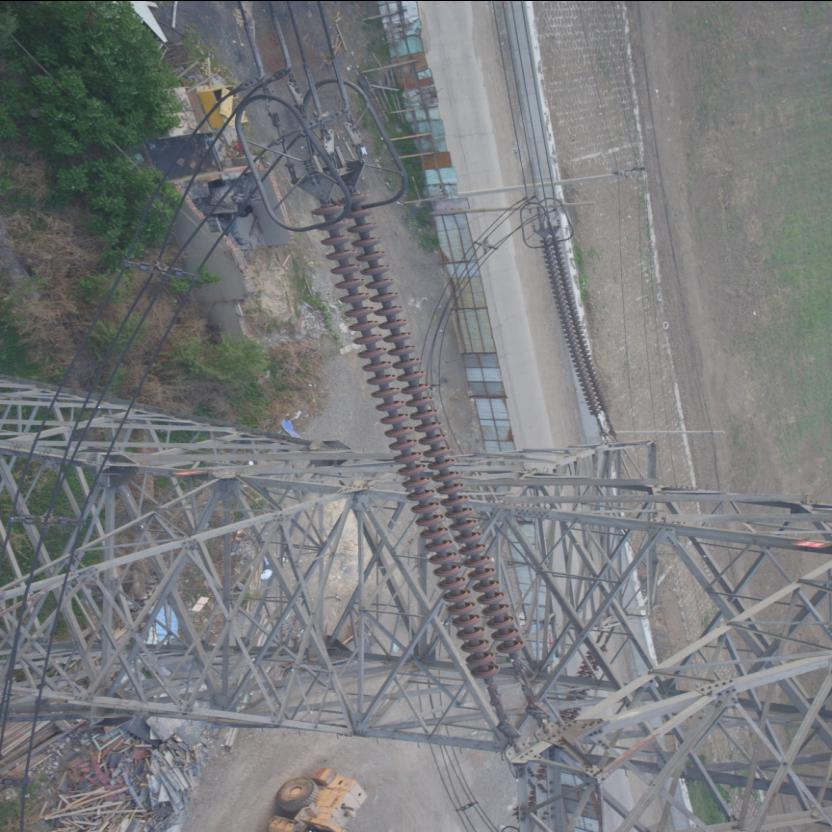insulator: (310, 190, 532, 690), (540, 230, 615, 424)
